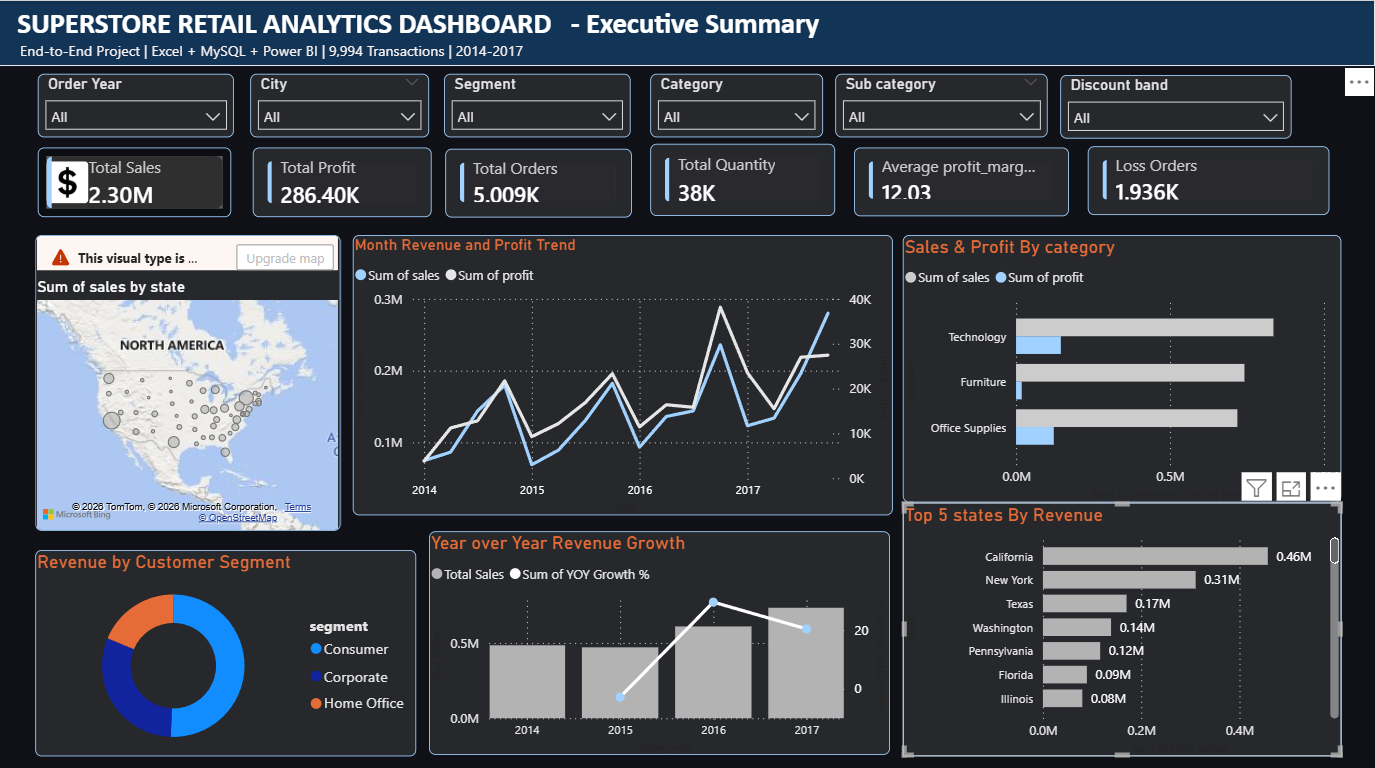

What the dashboard file says about the page in this screenshot:
{"tool":"powerbi","page":{"name":"Executive Summary","canvas":[1280,720],"ordinal":0},"visuals":[{"type":"textbox","box":[0,0,1280,61.2],"z":500},{"type":"cardVisual","fields":{"Data":["superstore orders.Total Sales"]},"box":[36,137.2,180.2,65.1],"z":2000},{"type":"cardVisual","fields":{"Data":["superstore orders.Total measure"]},"box":[236,137.2,166.3,65.1],"z":3000},{"type":"cardVisual","fields":{"Data":["Count(superstore orders.order_id)"]},"box":[415.1,138.4,173.3,64],"z":4000},{"type":"cardVisual","fields":{"Data":["superstore orders.Loss Orders"]},"box":[1012.8,136,224.4,64],"z":5000},{"type":"lineChart","title":"Month Revenue and Profit Trend","fields":{"Y":["Sum(superstore orders.sales)"],"Y2":["Sum(superstore orders.profit)"],"Category":["superstore orders.order_date.Variation.Date Hierarchy.Year","superstore orders.order_date.Variation.Date Hierarchy.Quarter","superstore orders.order_date.Variation.Date Hierarchy.Month","superstore orders.order_date.Variation.Date Hierarchy.Day"]},"box":[329.1,218.6,502.3,260.5],"z":6000},{"type":"donutChart","title":"Revenue by Customer Segment","fields":{"Y":["Sum(superstore orders.sales)"],"Category":["superstore orders.segment"]},"box":[33.7,511.6,354.7,191.9],"z":7000},{"type":"cardVisual","fields":{"Data":["Avg(superstore orders.profit_margin)"]},"box":[795.4,137.2,200,64],"z":8000},{"type":"clusteredBarChart","title":"  Sales & Profit By category","fields":{"Category":["superstore category_performance.category"],"Y":["Sum(superstore orders.sales)","Sum(superstore orders.profit)"]},"box":[840.7,218.6,408.1,248.8],"z":9000},{"type":"lineStackedColumnComboChart","title":"Year over Year Revenue Growth","fields":{"Category":["superstore yoy_growth.order_year"],"Y":["Sum(superstore yoy_growth.total_sales)"],"Y2":["Sum(superstore yoy_growth.yoy_growth_pct)"]},"box":[400,494.2,429.1,208.1],"z":10000},{"type":"clusteredBarChart","title":"Top 5 states By Revenue","fields":{"Category":["superstore state_performance.state"],"Y":["Sum(superstore state_performance.total_sales)"]},"box":[840.7,467.4,408.1,236],"z":11000},{"type":"slicer","fields":{"Values":["superstore orders.order_year"]},"box":[36,68.6,182.6,59.3],"z":12000},{"type":"slicer","fields":{"Values":["superstore orders.segment"]},"box":[414,68.6,173.3,59.3],"z":13000},{"type":"slicer","fields":{"Values":["superstore orders.sub_category"]},"box":[797.7,68.6,197.7,59.3],"z":14000},{"type":"slicer","fields":{"Values":["superstore orders.category"]},"box":[605.8,68.6,172.1,59.3],"z":15000},{"type":"slicer","fields":{"Values":["superstore orders.discount_band"]},"box":[1012.8,68.6,224.4,59.3],"z":16000},{"type":"map","fields":{"Category":["superstore orders.state"],"Size":["Sum(superstore orders.sales)"]},"box":[33.7,218.6,283.7,275.6],"z":17000},{"type":"slicer","fields":{"Values":["superstore orders.city"]},"box":[233.7,68.6,166.3,59.3],"z":18000},{"type":"cardVisual","fields":{"Data":["Sum(superstore orders.quantity)"]},"box":[605.8,133.7,172.1,67.4],"z":19000}]}

Visuals, with their boxes in screenshot pixels (x1, y1, x2, y2), scaled from the page's 1280x720 canvas onto the 1375x768 screenshot:
textbox: x1=0 y1=0 x2=1374 y2=65
cardVisual - superstore orders.Total Sales: x1=39 y1=146 x2=232 y2=216
cardVisual - superstore orders.Total measure: x1=254 y1=146 x2=432 y2=216
cardVisual - Count(superstore orders.order_id): x1=446 y1=148 x2=632 y2=216
cardVisual - superstore orders.Loss Orders: x1=1088 y1=145 x2=1329 y2=213
"Month Revenue and Profit Trend" lineChart: x1=354 y1=233 x2=893 y2=511
"Revenue by Customer Segment" donutChart: x1=36 y1=546 x2=417 y2=750
cardVisual - Avg(superstore orders.profit_margin): x1=854 y1=146 x2=1069 y2=215
"  Sales & Profit By category" clusteredBarChart: x1=903 y1=233 x2=1341 y2=499
"Year over Year Revenue Growth" lineStackedColumnComboChart: x1=430 y1=527 x2=891 y2=749
"Top 5 states By Revenue" clusteredBarChart: x1=903 y1=499 x2=1341 y2=750
slicer - superstore orders.order_year: x1=39 y1=73 x2=235 y2=136
slicer - superstore orders.segment: x1=445 y1=73 x2=631 y2=136
slicer - superstore orders.sub_category: x1=857 y1=73 x2=1069 y2=136
slicer - superstore orders.category: x1=651 y1=73 x2=836 y2=136
slicer - superstore orders.discount_band: x1=1088 y1=73 x2=1329 y2=136
map - superstore orders.state x Sum(superstore orders.sales): x1=36 y1=233 x2=341 y2=527
slicer - superstore orders.city: x1=251 y1=73 x2=430 y2=136
cardVisual - Sum(superstore orders.quantity): x1=651 y1=143 x2=836 y2=215
